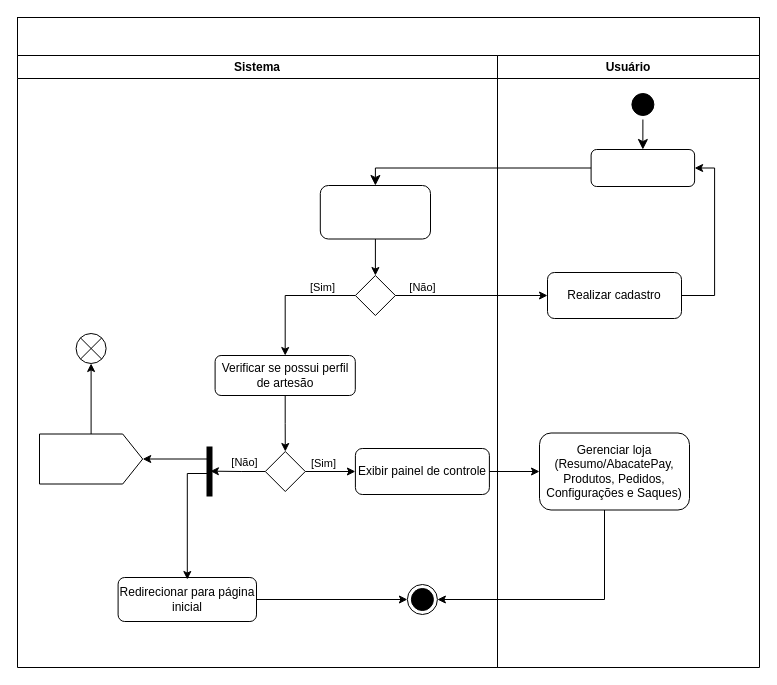
The diagram is 777 pixels wide and 685 high, and some of its shapes have lost their labels. The shapes that lost their labels are listed below. From the top down, each one's centre as x and y in pixels, then its label:
(x=388, y=36): Diagrama de Atividades: Visualizar Painel de Controle
(x=642, y=167): Realizar login
(x=374, y=211): Validar credencias
(x=90, y=458): Notificação de acesso negado
